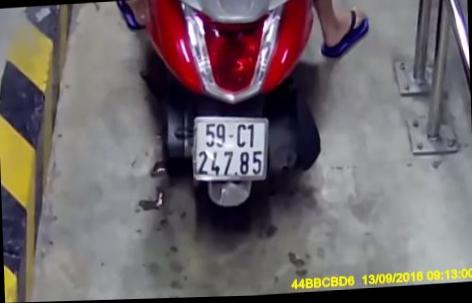LP: (190, 111, 272, 187)
